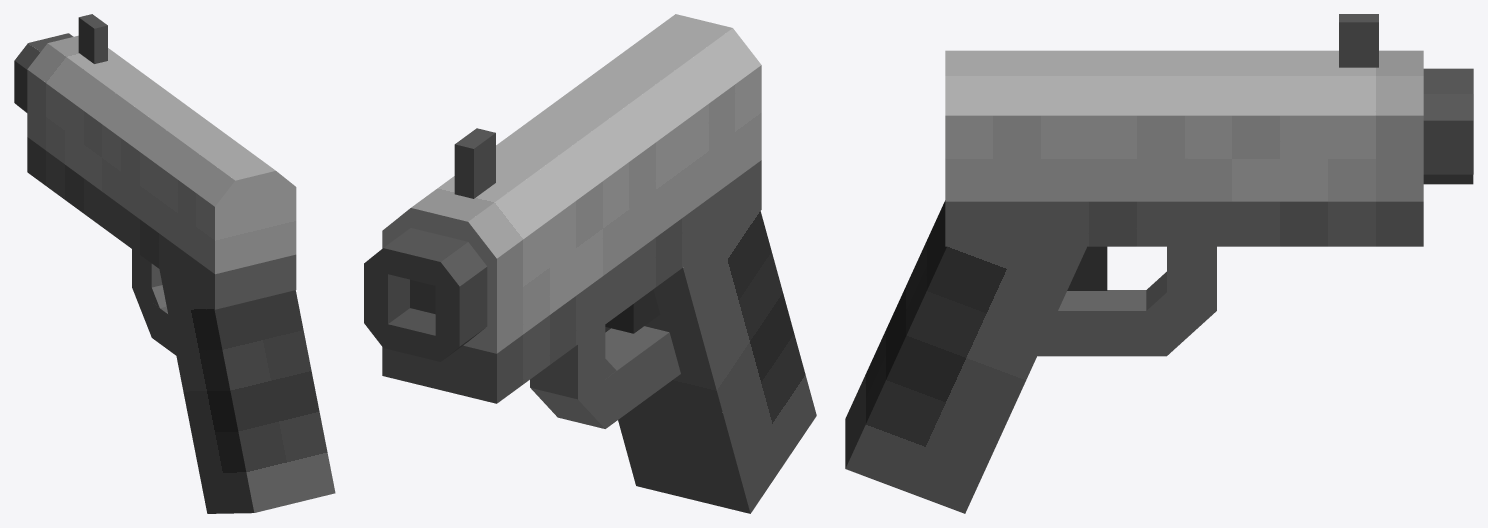
File: pistol.gltf
The picture shows the model from 3 angles, left to right: view 1: azimuth 30°, elevation 25°; view 2: azimuth 150°, elevation 25°; view 3: azimuth 270°, elevation 25°; orthographic projection. The views are drawn at different scales.
Parts seen in each view (by area): view 1: cube (×10); view 2: cube (×16); view 3: cube (×13).
Part boxes in pixels (x1,y1,x2,y2): cube (×10): (14,14,335,513); cube (×16): (364,14,816,513); cube (×13): (845,14,1473,513).
Bounding box in the file's own units: 0.075 × 0.3256 × 0.3939.
Materials: 1 (1 with a texture image).
